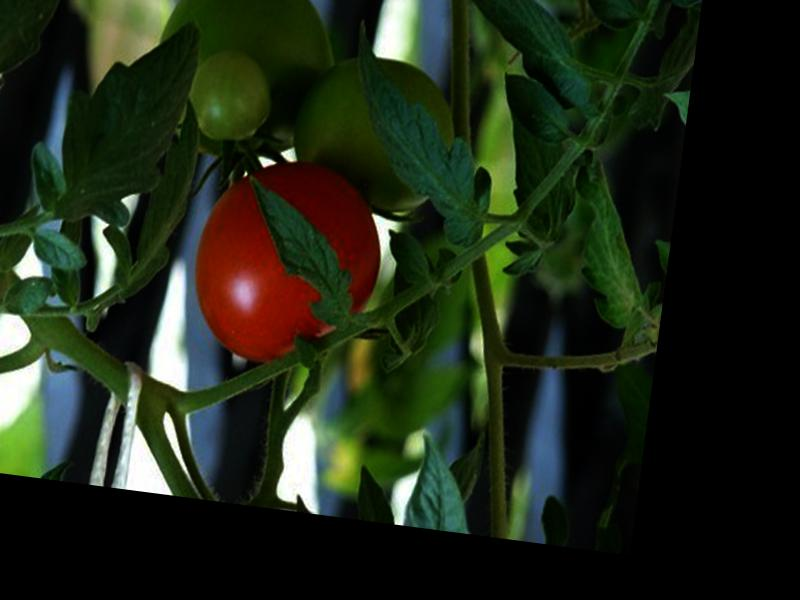Tomato: (183, 152, 390, 376)
